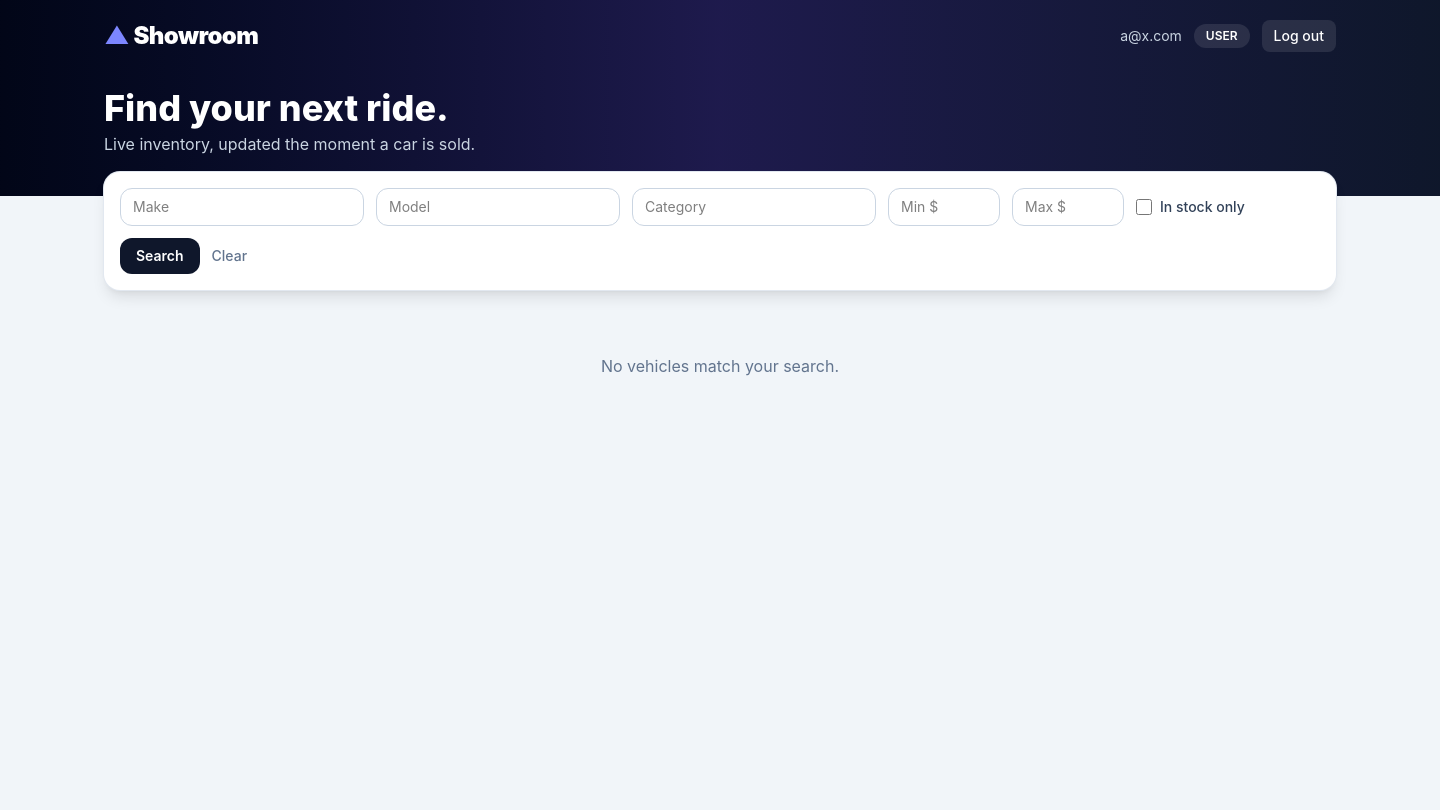
Scenario: App › restores a saved session and logs out
Click the button "Log out" at (1299, 36), box [1262,20,1336,52]
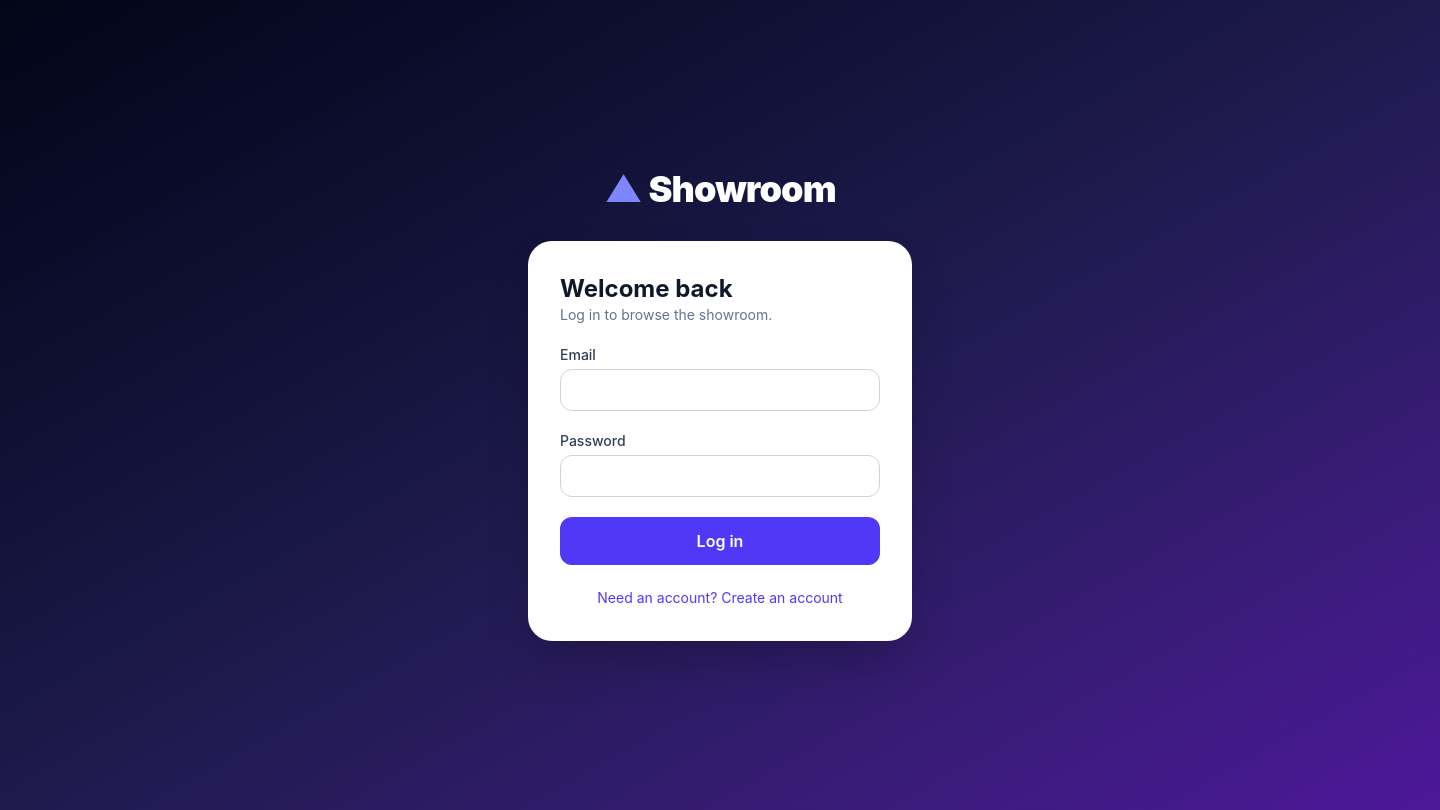
Expected: the button "Log in" is shown, [560,517,880,565]
